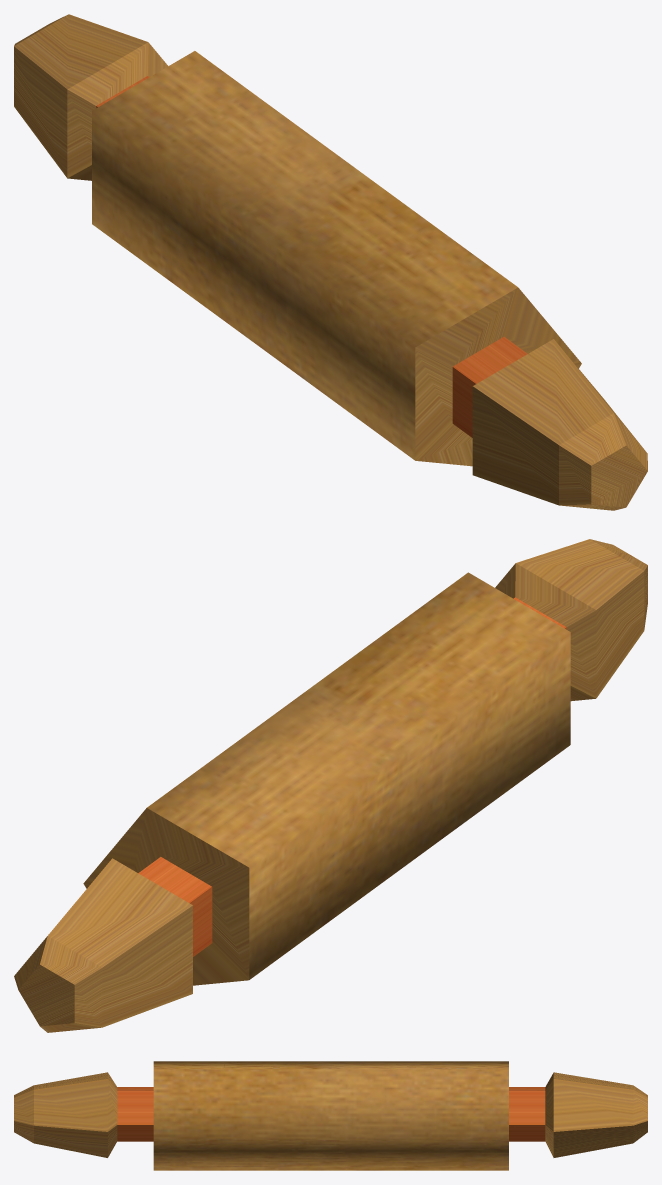
Rendered from roller.FBX.
The picture shows the model from 3 angles, top to bottom: view 1: azimuth 30°, elevation 25°; view 2: azimuth 150°, elevation 25°; view 3: azimuth 270°, elevation 25°; orthographic projection. The views are drawn at different scales.
Parts seen in each view (by area): view 1: Cylinder001, Object001; view 2: Cylinder001, Object001; view 3: Cylinder001, Object001.
Boxes of the visible parts, x1,y1,x2,y2 form: Cylinder001: [14, 14, 647, 510]; Object001: [96, 76, 527, 437]; Cylinder001: [14, 539, 647, 1032]; Object001: [138, 597, 566, 956]; Cylinder001: [14, 1061, 647, 1170]; Object001: [117, 1087, 545, 1141].
Bounding box in the file's own units: 19.42 × 20.42 × 116.
2 materials, 2 textured.
